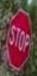Stop-Sign: (9, 9, 31, 70)
